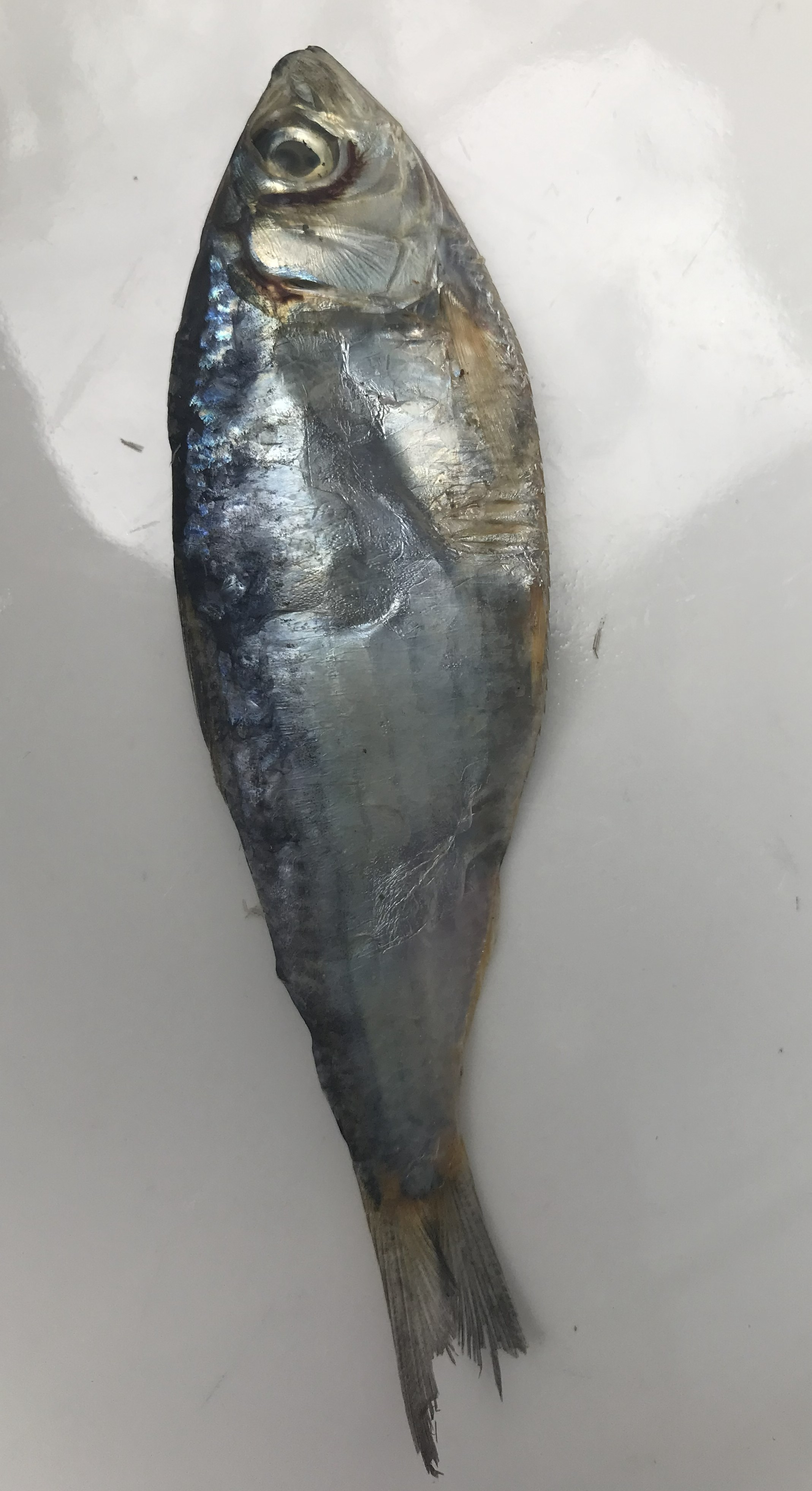tamban_dried_: (167, 46, 560, 1483)
